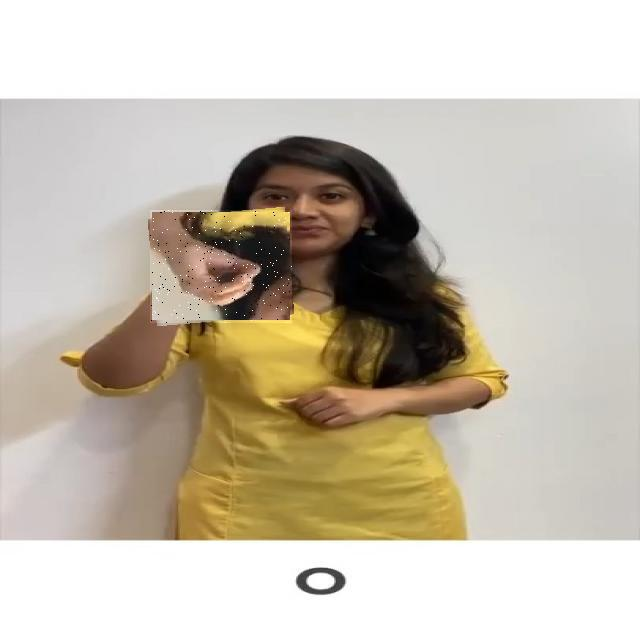O: (150, 210, 292, 323)
